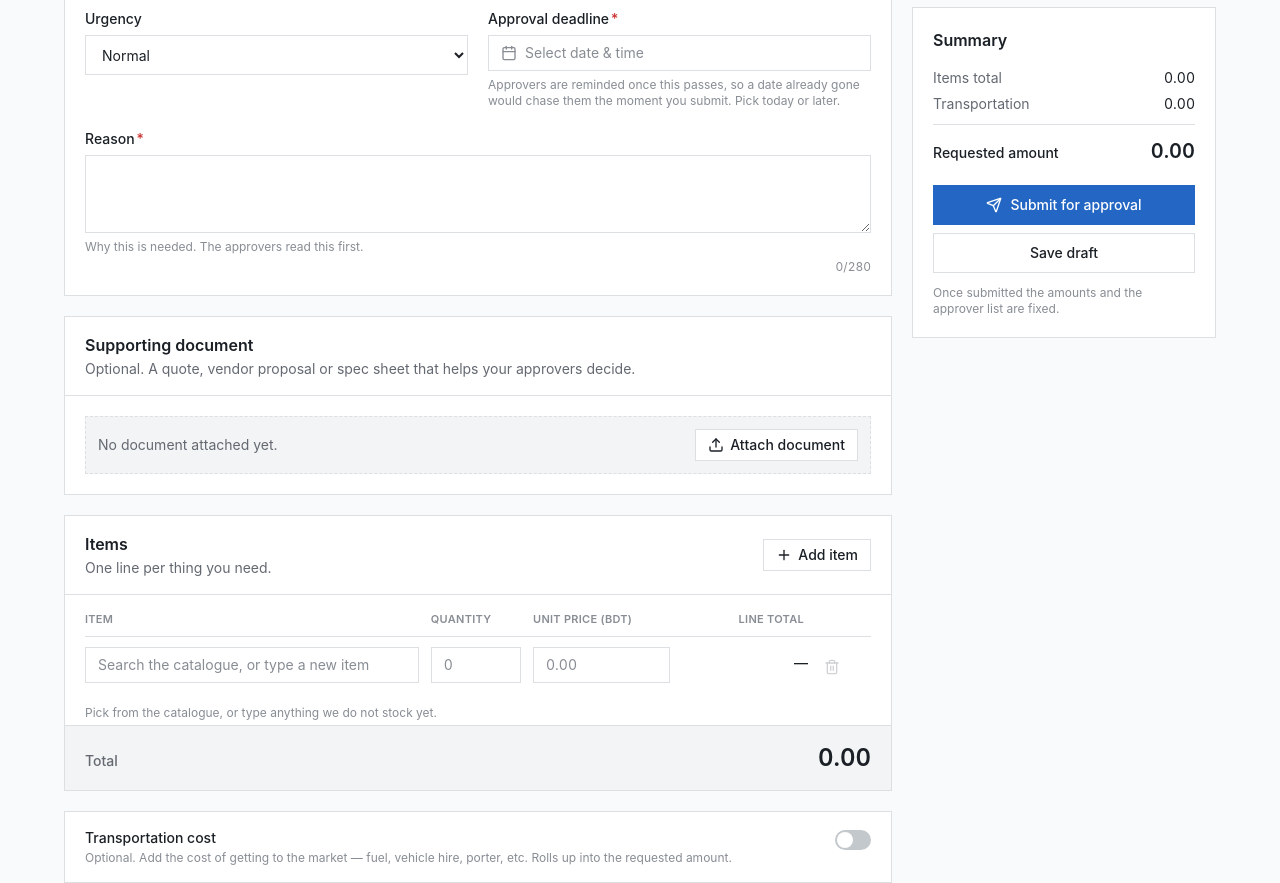
Test: the transportation section › adds the amount to the requested total
(page scrolled)
Click the switch labelled "Transportation cost". click: {"x": 478, "y": 846}
box: [85,828,871,866]
(page scrolled)
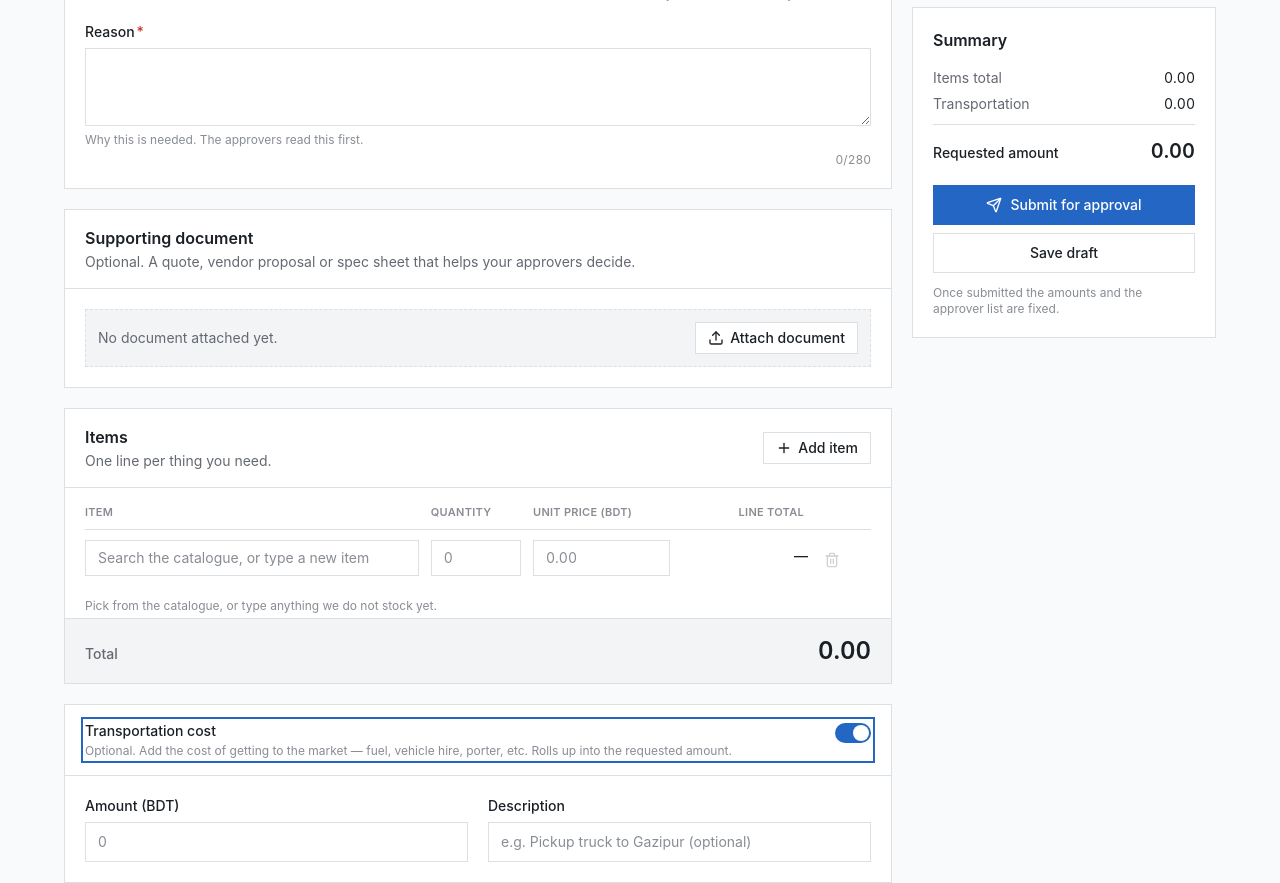
Type "1200" into the number field labelled "Amount (BDT)". click: {"x": 276, "y": 842}
box: [85,822,468,862]
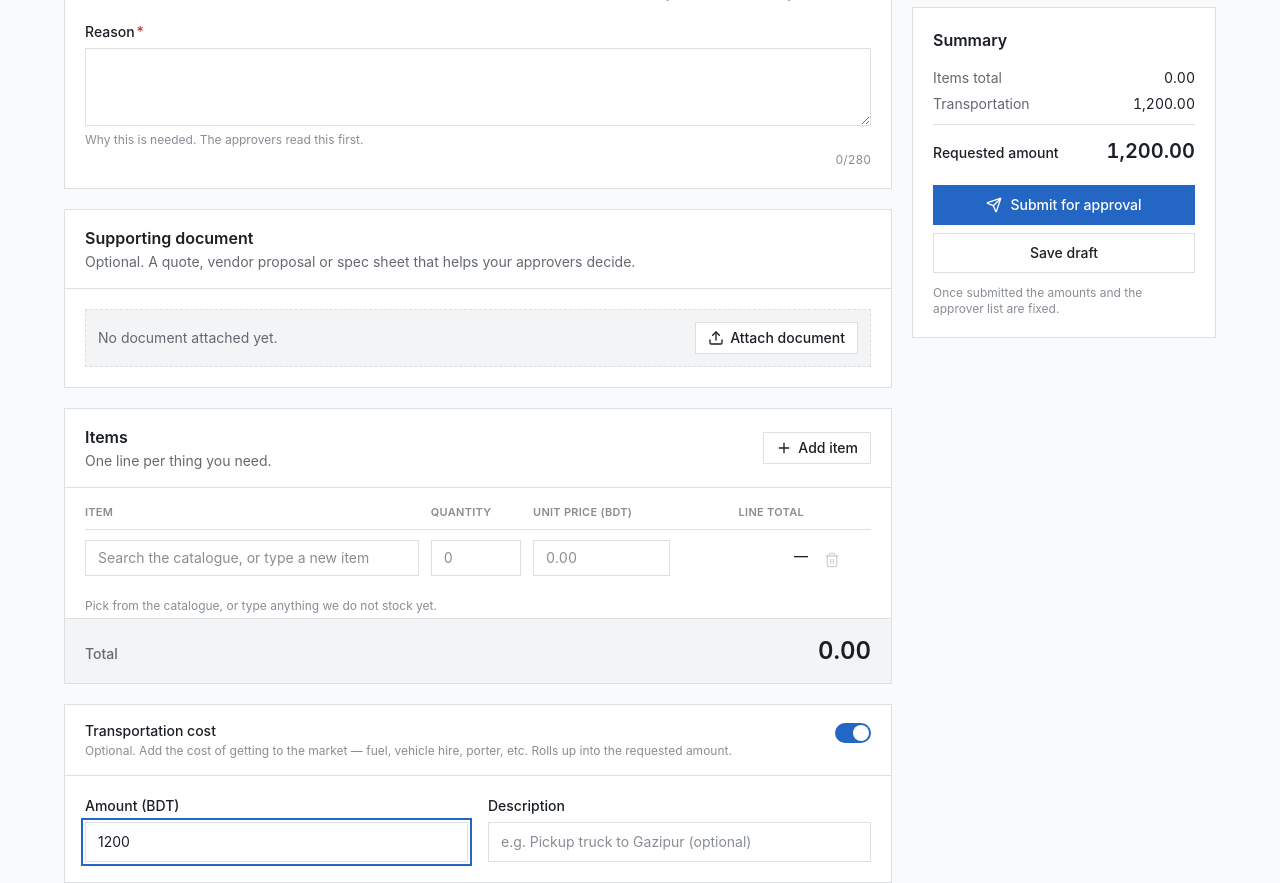
Result: the text "Requested amount" shows "1,200" at [1107,139,1195,163]
